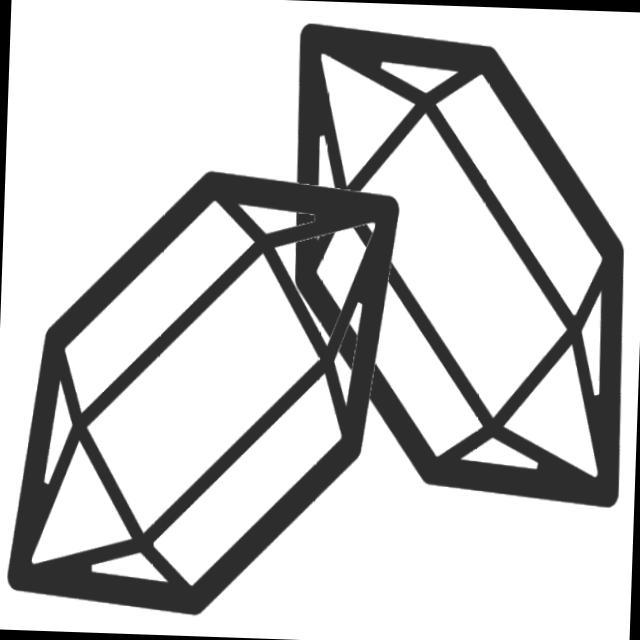crystal: (1, 151, 411, 634), (274, 14, 640, 527)
